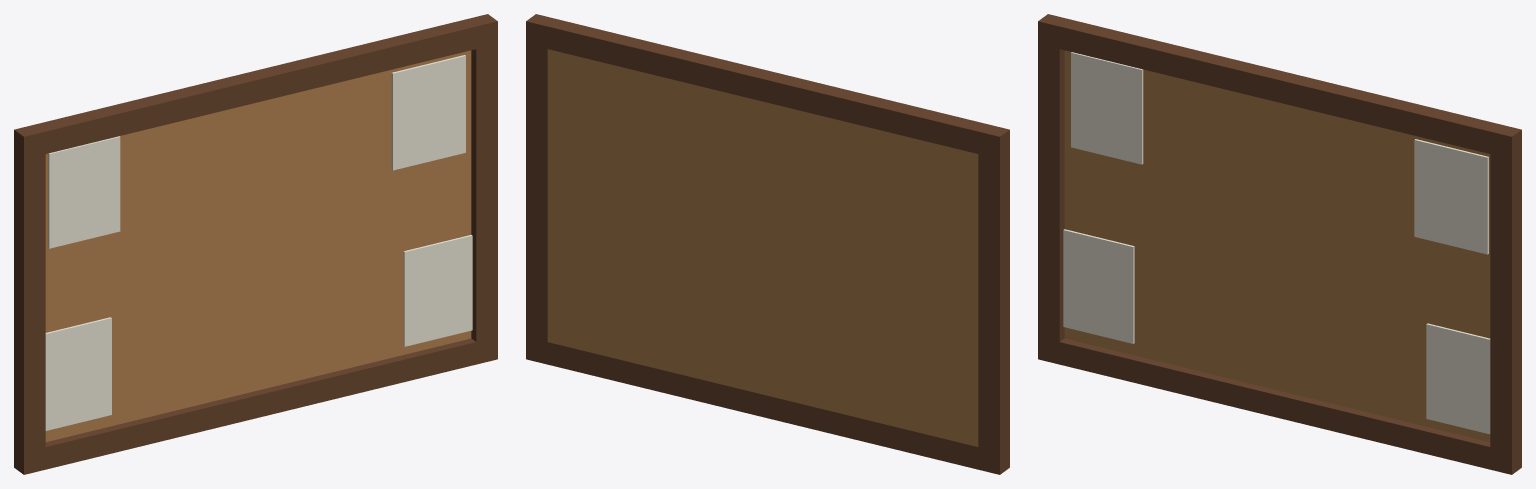
Rendered from SM_CollectionBoard.fbx.
3 renders of one model, left to right at view 1: azimuth 30°, elevation 25°; view 2: azimuth 150°, elevation 25°; view 3: azimuth 330°, elevation 25°, orthographic.
Visible parts, largest first — view 1: Cork, Border_Top.001, Border_Bottom.001, Border_Right.001, Border_Left.001, Card_1, Card_2, Card_3, Card_4; view 2: Cork, Border_Top.001, Border_Bottom.001, Border_Right.001, Border_Left.001; view 3: Cork, Border_Top.001, Border_Bottom.001, Border_Left.001, Border_Right.001, Card_1, Card_4, Card_2, Card_3.
Boxes of the visible parts, x1=… form: Cork: x1=45, y1=50, x2=471, y2=441; Border_Top.001: x1=14, y1=14, x2=497, y2=159; Border_Bottom.001: x1=14, y1=337, x2=497, y2=474; Border_Right.001: x1=14, y1=152, x2=45, y2=452; Border_Left.001: x1=471, y1=44, x2=497, y2=341; Card_1: x1=391, y1=55, x2=465, y2=170; Card_2: x1=48, y1=136, x2=120, y2=248; Card_3: x1=403, y1=235, x2=472, y2=346; Card_4: x1=45, y1=317, x2=111, y2=430; Cork: x1=547, y1=49, x2=978, y2=446; Border_Top.001: x1=526, y1=14, x2=1009, y2=159; Border_Bottom.001: x1=526, y1=337, x2=1009, y2=474; Border_Right.001: x1=978, y1=152, x2=1009, y2=452; Border_Left.001: x1=526, y1=44, x2=547, y2=341; Cork: x1=1064, y1=50, x2=1490, y2=441; Border_Top.001: x1=1038, y1=14, x2=1521, y2=159; Border_Bottom.001: x1=1038, y1=337, x2=1521, y2=474; Border_Left.001: x1=1490, y1=152, x2=1521, y2=452; Border_Right.001: x1=1038, y1=44, x2=1064, y2=341; Card_1: x1=1414, y1=139, x2=1488, y2=254; Card_4: x1=1063, y1=229, x2=1134, y2=343; Card_2: x1=1071, y1=52, x2=1143, y2=164; Card_3: x1=1426, y1=323, x2=1490, y2=434.
Bounding box in the file's own units: 2.2 × 1.5 × 0.08.
